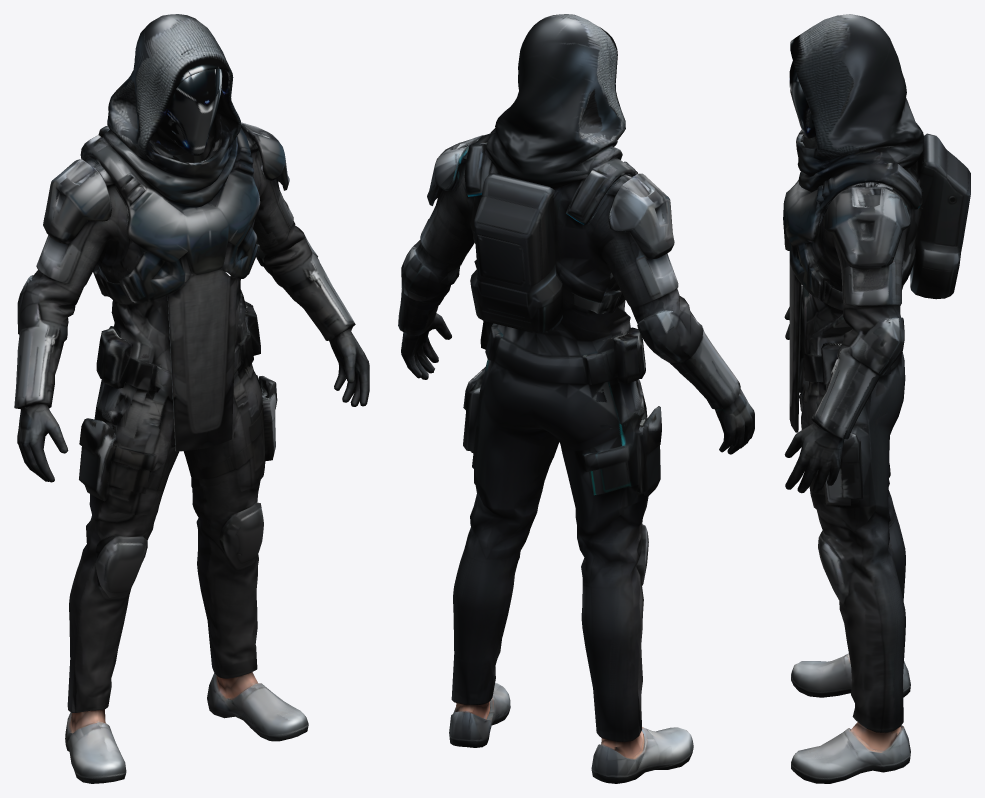
The model's file is bounty.glb.
3 renders of one model, left to right at view 1: azimuth 30°, elevation 25°; view 2: azimuth 150°, elevation 25°; view 3: azimuth 270°, elevation 25°, orthographic. The views are drawn at different scales.
Size of the model in its own units: 0.4959 by 1 by 0.2387.
1 material, 1 textured.
